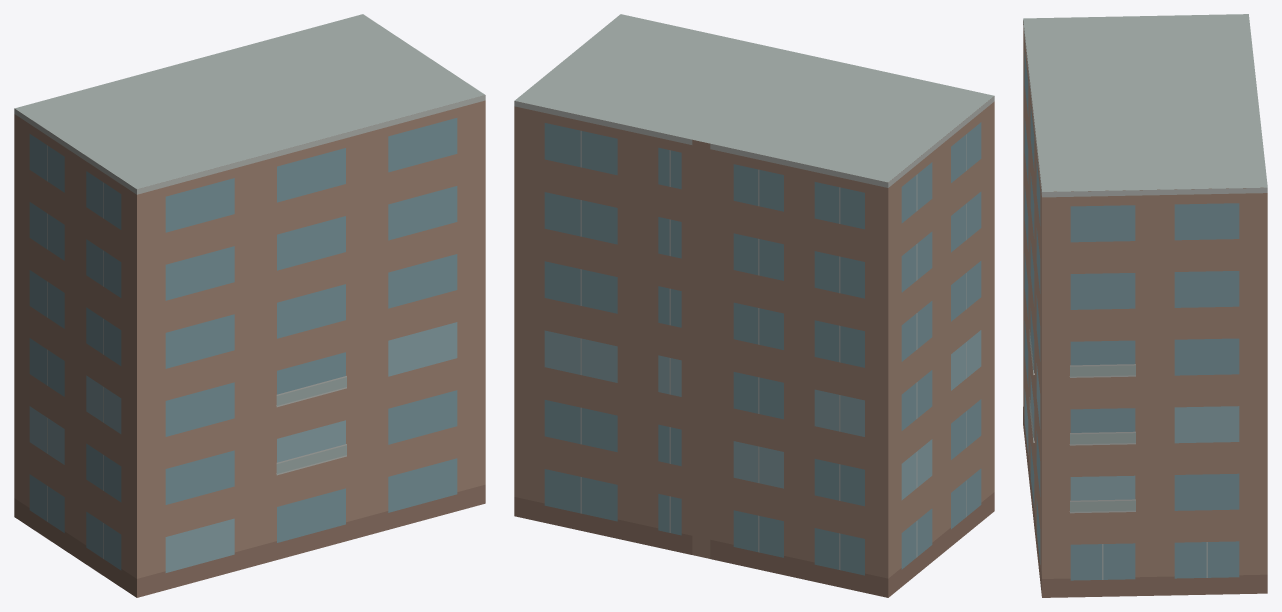
Rendered from survey-upis-32742557.glb.
3 renders of one model, left to right at view 1: azimuth 30°, elevation 25°; view 2: azimuth 150°, elevation 25°; view 3: azimuth 270°, elevation 25°, orthographic. The views are drawn at different scales.
Visible parts, largest first — view 1: survey-upis-32742557.tmp; view 2: survey-upis-32742557.tmp; view 3: survey-upis-32742557.tmp.
Boxes of the visible parts, bbox=[...] form: survey-upis-32742557.tmp: bbox=[14, 14, 485, 597]; survey-upis-32742557.tmp: bbox=[514, 14, 994, 597]; survey-upis-32742557.tmp: bbox=[1023, 14, 1267, 597].
Bounding box in the file's own units: 17.22 × 18.3 × 10.01.
